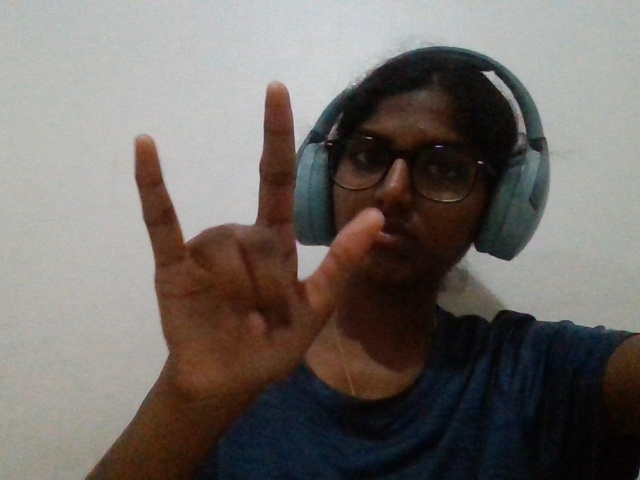I Love You: (82, 64, 395, 446)
